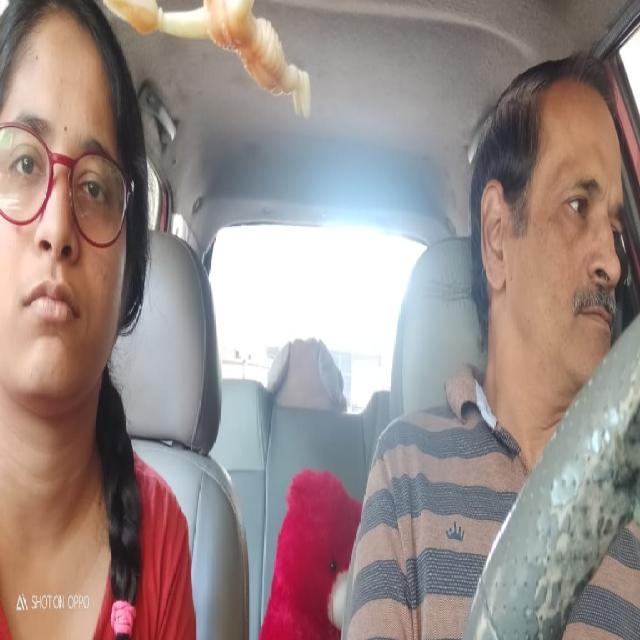LeftRight: (460, 48, 630, 404)
person: (0, 0, 146, 421)
